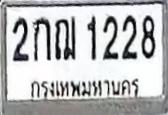1: (86, 15, 96, 61)
2: (11, 16, 28, 62), (121, 13, 137, 60), (102, 15, 118, 60)
8: (140, 14, 156, 59)
A01: (32, 16, 50, 62)
A12: (54, 16, 77, 60)
BKK: (25, 76, 145, 100)
